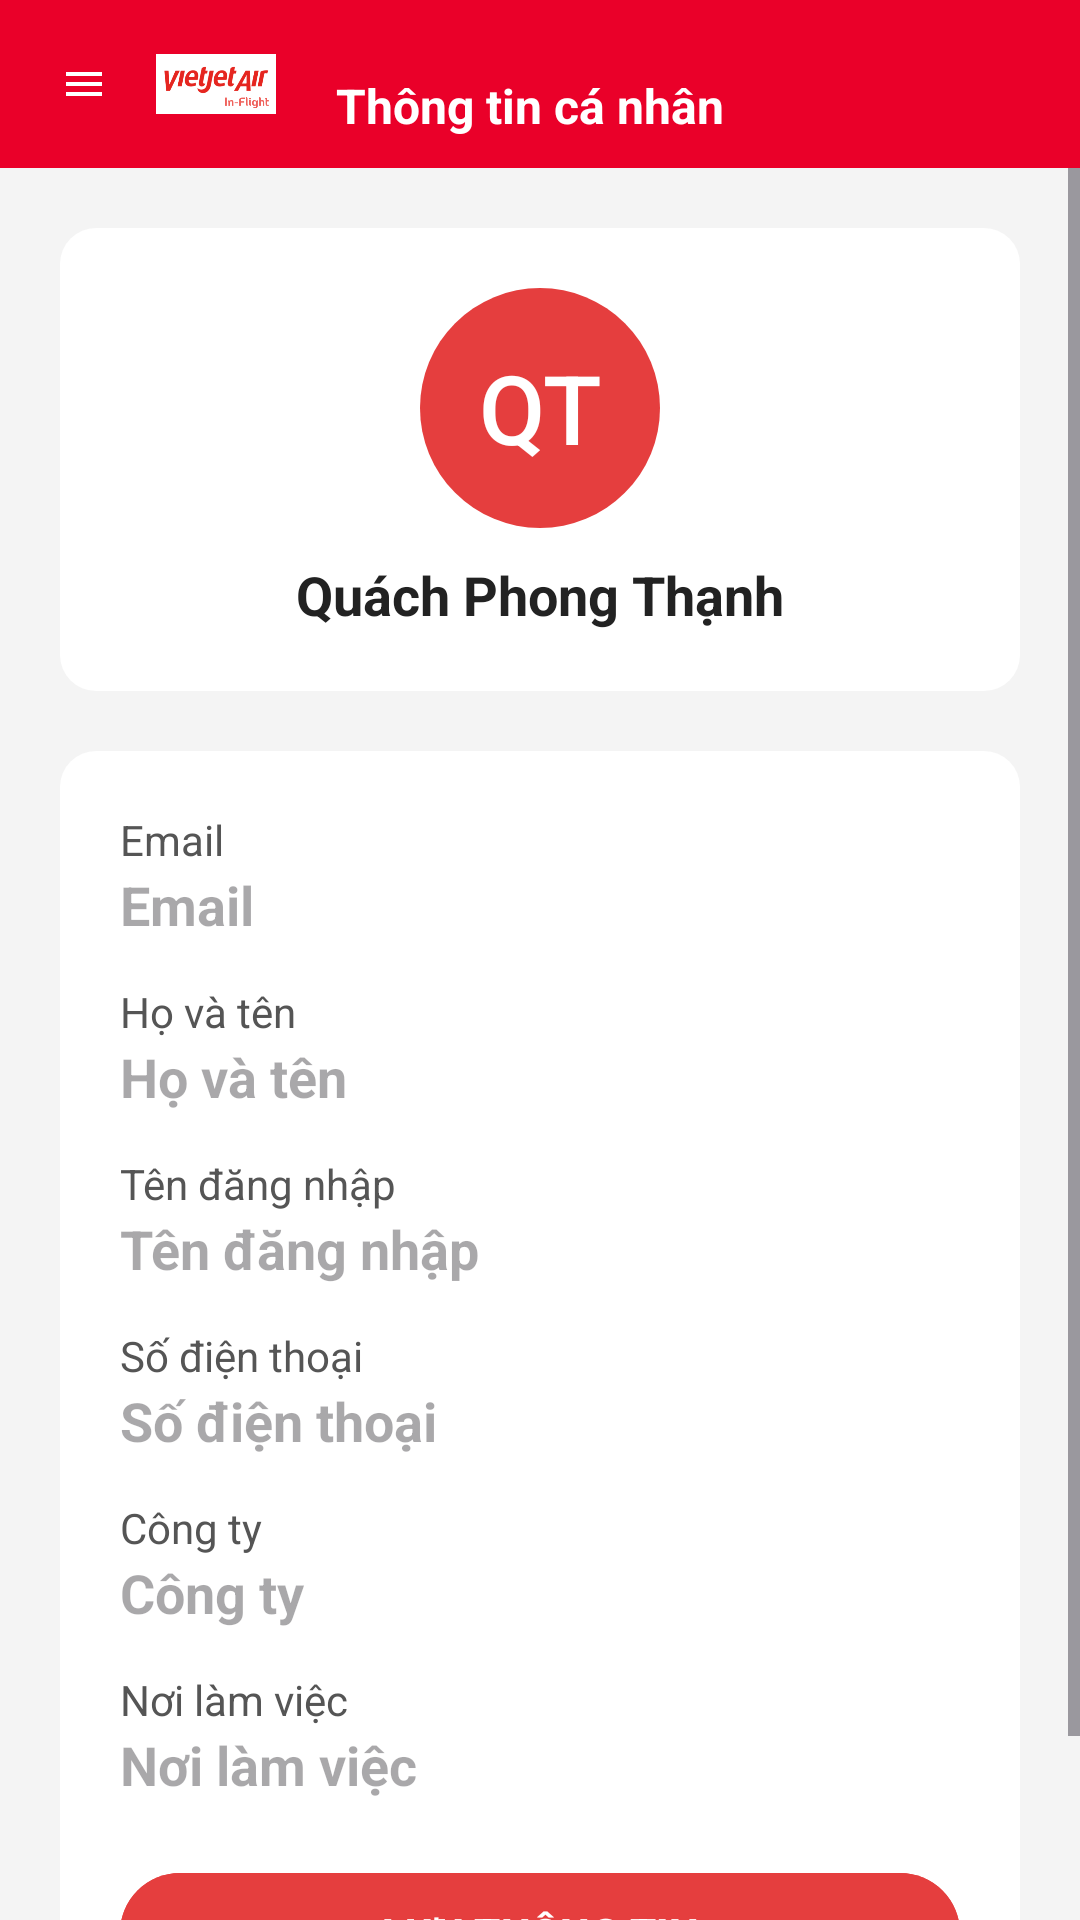

Named icons in this screenshot (1080px x 1920px) and their centers, (x=x, y=y):
menu: (x=84, y=84)
